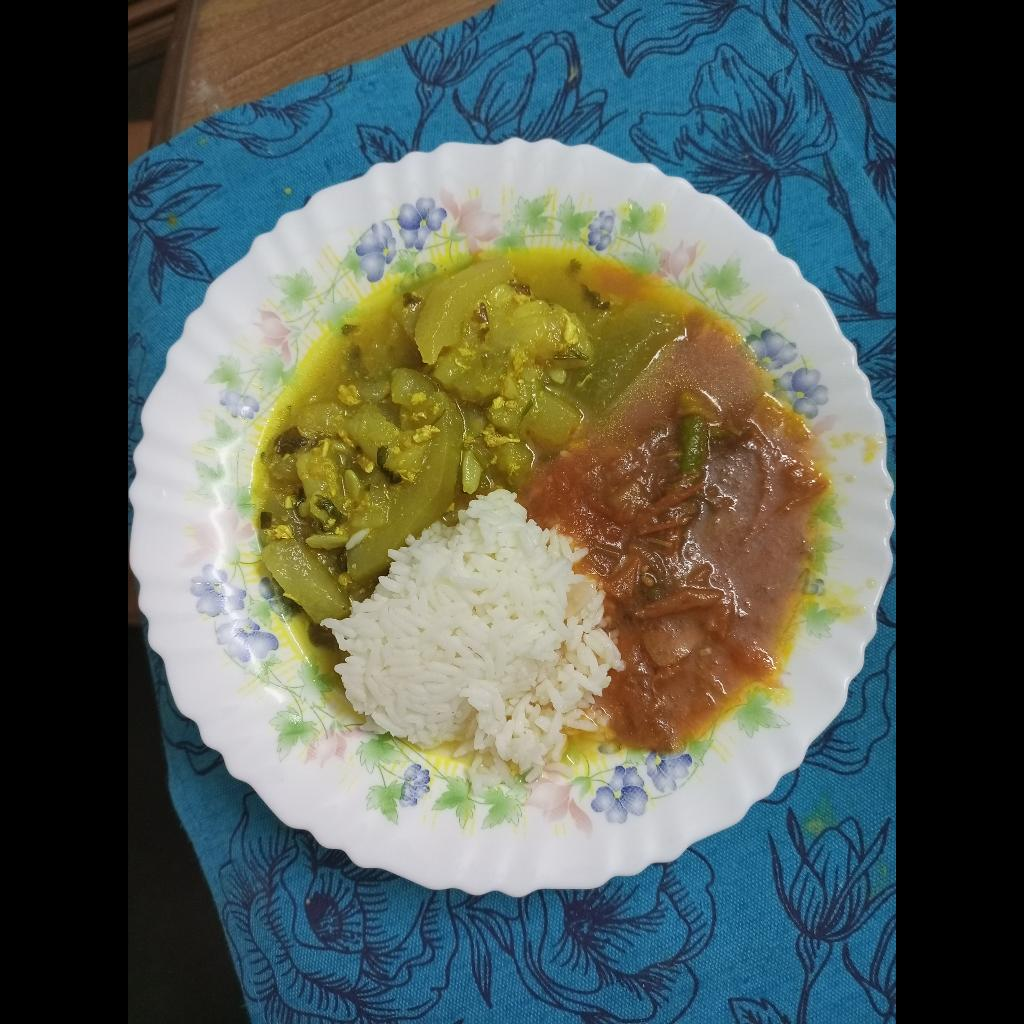lau: (258, 245, 691, 622)
rice: (311, 482, 631, 796)
tomato: (517, 294, 823, 751)
